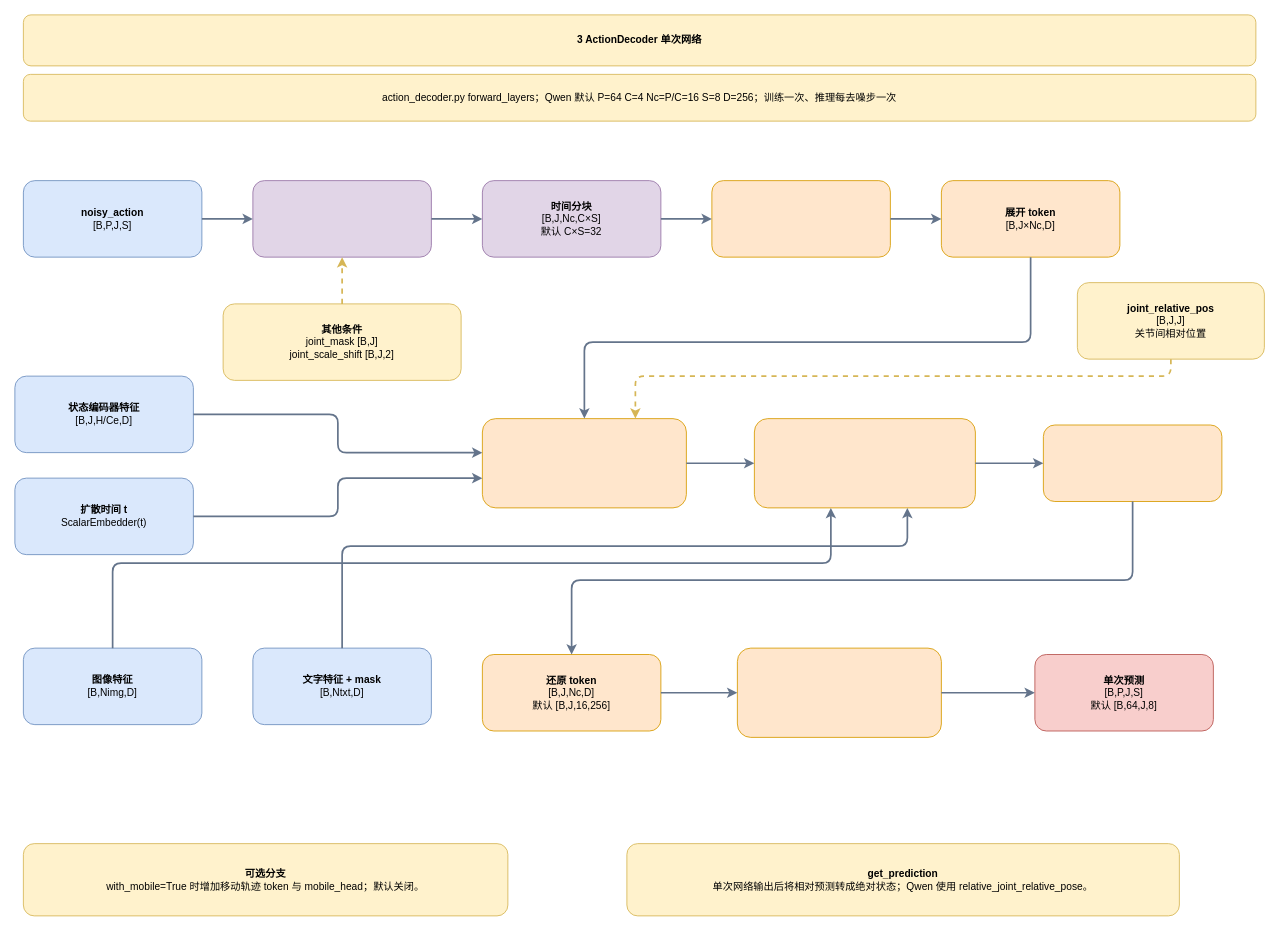
This 1279x931 diagram has some shape labels left out. The centre of each missing label's shape, as x and y in pixels:
input_layers Linear 32→256 [B,J,Nc,D]: point 800,218
permute + mask [B,J,P,S]: point 341,218
UpsampleHead 时间 16→32→64 通道 256→128→64→8: point 839,692
共 6 层 保持 [B,J×Nc,D]: point 1132,463
每层前半 AdaRMSNorm(t) → temp_joint_attn → gate_msa → Norm: point 584,463
每层后半 图像/文字 cross-attn + Norm scale_shift → FFN → gate_mlp: point 864,463
